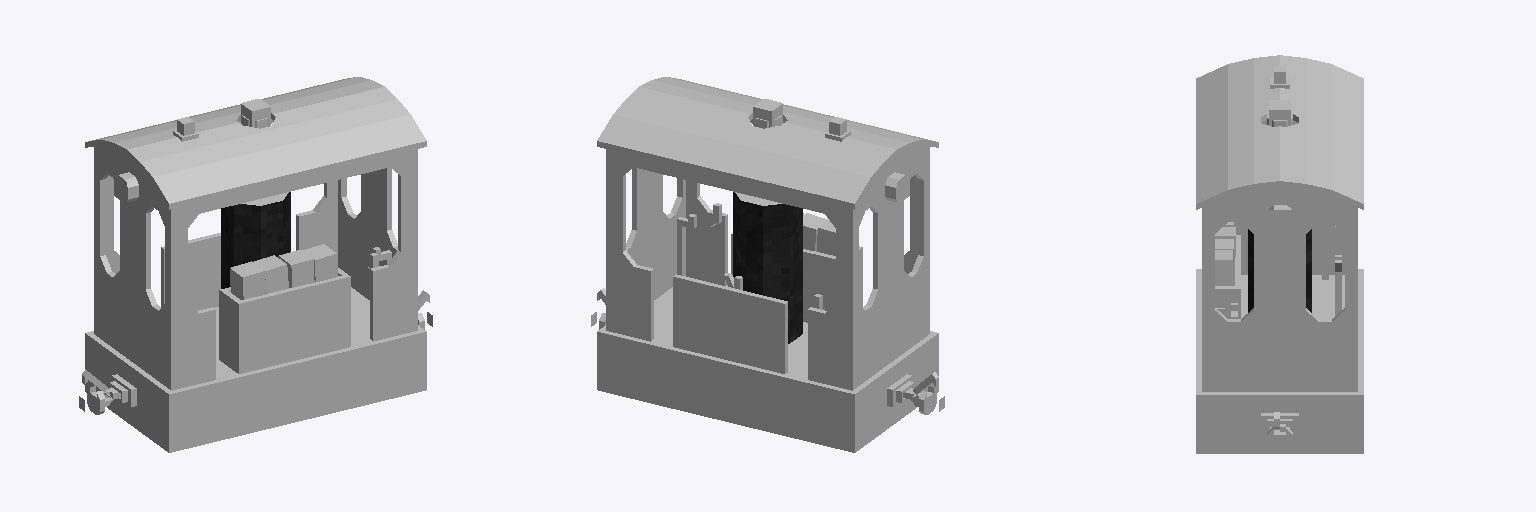
3 renders of one model, left to right at view 1: azimuth 30°, elevation 25°; view 2: azimuth 150°, elevation 25°; view 3: azimuth 270°, elevation 25°, orthographic.
Parts seen in each view (by area): view 1: FRAME.bodyshell, FRAME.roof, FRAME.skirts, FRAME.bufferbeam, FRAME.boiler, CARGO_FILL_1, FRAME.runningboard, COUPLER_ENGAGED_FRONT_1_TOGGLE_LABEL_Uncouple, CHIMNEY_1; view 2: FRAME.bodyshell, FRAME.roof, FRAME.skirts, FRAME.boiler, FRAME.bufferbeam, FRAME.runningboard, COUPLER_ENGAGED_FRONT_1_TOGGLE_LABEL_Uncouple, CARGO_FILL_1, THROTTLE_1_LABEL_Regulator, CHIMNEY_1; view 3: FRAME.bodyshell, FRAME.roof, FRAME.bufferbeam, FRAME.skirts, FRAME.runningboard, CARGO_FILL_1, COUPLER_ENGAGED_REAR_2_TOGGLE_LABEL_Uncouple, FRAME.boiler, HEADLIGHT_2_0xFFF0E1_LCG_headrear.
Part boxes in pixels (left/top/right/bottom): FRAME.bodyshell: left=94, top=119, right=417, bottom=390; FRAME.roof: left=85, top=77, right=426, bottom=209; FRAME.skirts: left=91, top=331, right=420, bottom=451; FRAME.bufferbeam: left=85, top=325, right=426, bottom=452; FRAME.boiler: left=221, top=192, right=290, bottom=288; CARGO_FILL_1: left=230, top=244, right=337, bottom=299; FRAME.runningboard: left=215, top=287, right=372, bottom=379; COUPLER_ENGAGED_FRONT_1_TOGGLE_LABEL_Uncouple: left=79, top=374, right=136, bottom=414; CHIMNEY_1: left=241, top=99, right=270, bottom=127; FRAME.bodyshell: left=606, top=119, right=929, bottom=390; FRAME.roof: left=597, top=77, right=938, bottom=209; FRAME.skirts: left=603, top=331, right=932, bottom=451; FRAME.boiler: left=733, top=192, right=802, bottom=343; FRAME.bufferbeam: left=597, top=325, right=938, bottom=452; FRAME.runningboard: left=651, top=285, right=807, bottom=379; COUPLER_ENGAGED_FRONT_1_TOGGLE_LABEL_Uncouple: left=887, top=374, right=944, bottom=414; CARGO_FILL_1: left=803, top=213, right=835, bottom=255; THROTTLE_1_LABEL_Regulator: left=677, top=214, right=696, bottom=275; CHIMNEY_1: left=753, top=99, right=782, bottom=127; FRAME.bodyshell: left=1202, top=120, right=1357, bottom=391; FRAME.roof: left=1196, top=55, right=1363, bottom=209; FRAME.bufferbeam: left=1196, top=269, right=1363, bottom=453; FRAME.skirts: left=1196, top=272, right=1363, bottom=391; FRAME.runningboard: left=1241, top=275, right=1344, bottom=318; CARGO_FILL_1: left=1215, top=222, right=1235, bottom=285; COUPLER_ENGAGED_REAR_2_TOGGLE_LABEL_Uncouple: left=1261, top=413, right=1298, bottom=452; FRAME.boiler: left=1248, top=229, right=1311, bottom=312; HEADLIGHT_2_0xFFF0E1_LCG_headrear: left=1267, top=210, right=1292, bottom=233.
Bounding box in the file's own units: 3.88 × 3.25 × 1.62.
6 materials, 1 textured.